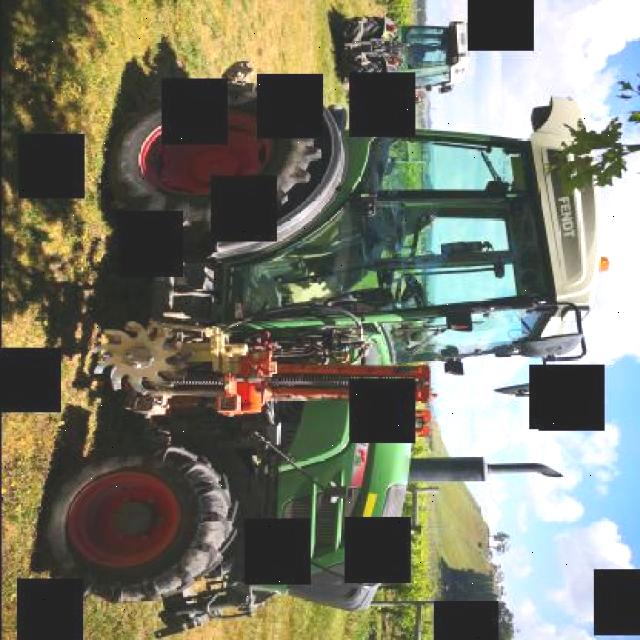Tratores - v5 YOLO V8L 2024-11-13: (20, 86, 606, 639), (340, 0, 501, 115)
